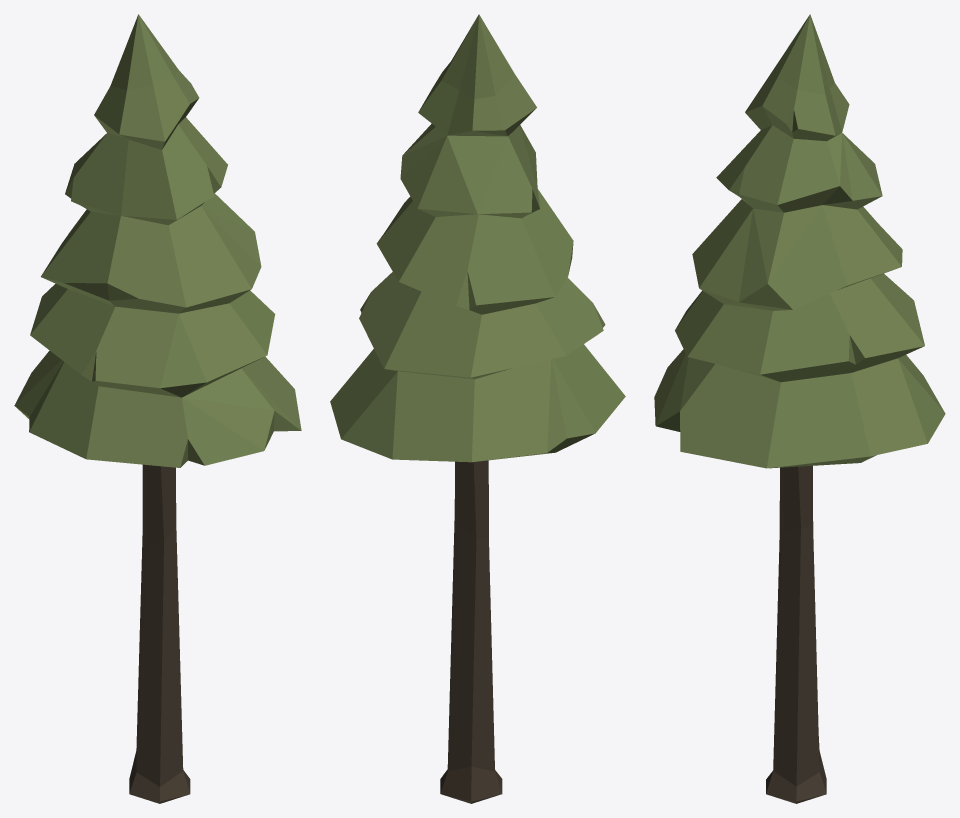
Rendered from SM_Tree_PolyPine_02.fbx.
The picture shows the model from 3 angles, left to right: view 1: azimuth 30°, elevation 25°; view 2: azimuth 150°, elevation 25°; view 3: azimuth 270°, elevation 25°; orthographic projection. The views are drawn at different scales.
Visible parts, largest first — view 1: SM_Tree_PolyPine_02; view 2: SM_Tree_PolyPine_02; view 3: SM_Tree_PolyPine_02.
Boxes of the visible parts, x1,y1,x2,y2 form: SM_Tree_PolyPine_02: [14, 14, 301, 803]; SM_Tree_PolyPine_02: [330, 14, 625, 803]; SM_Tree_PolyPine_02: [654, 14, 945, 803].
Bounding box in the file's own units: 58.2 × 178 × 59.89.
1 material, 1 textured.
